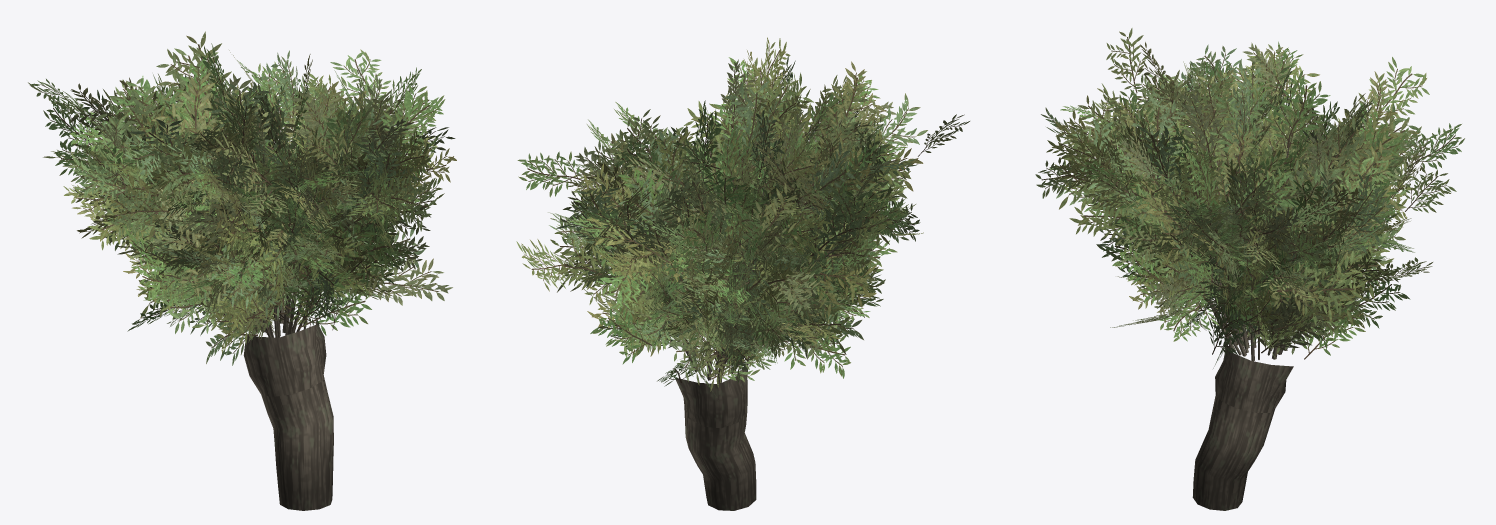
Rendered from vrba_hlavata_1.glb.
The picture shows the model from 3 angles, left to right: view 1: azimuth 30°, elevation 25°; view 2: azimuth 150°, elevation 25°; view 3: azimuth 270°, elevation 25°; orthographic projection. The views are drawn at different scales.
Parts seen in each view (by area): view 1: vrba_hlavata_1; view 2: vrba_hlavata_1; view 3: vrba_hlavata_1.
Boxes of the visible parts, x1,y1,x2,y2 form: vrba_hlavata_1: [28, 31, 456, 510]; vrba_hlavata_1: [516, 37, 969, 510]; vrba_hlavata_1: [1035, 28, 1464, 510].
Bounding box in the file's own units: 6.05 × 6.6 × 6.4.
2 materials, 2 textured.
